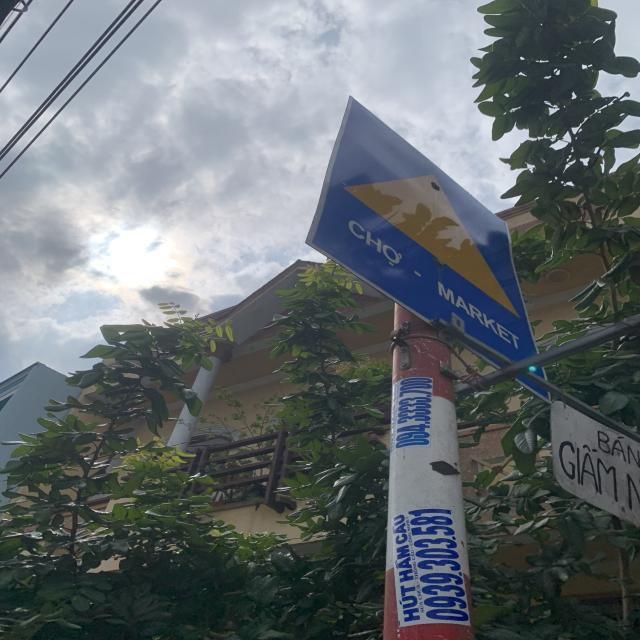Cho_Quay_Xe: (303, 94, 552, 395)
